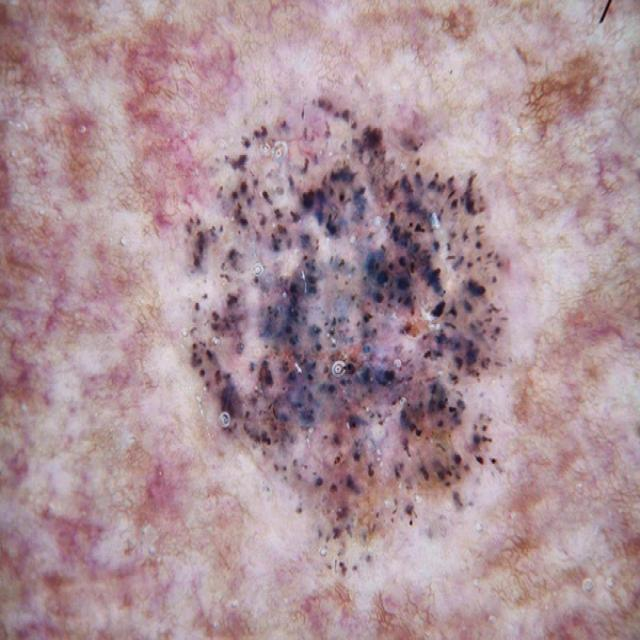Benign-Keratosis-like-Lesions-BKL-: (105, 60, 583, 587)
